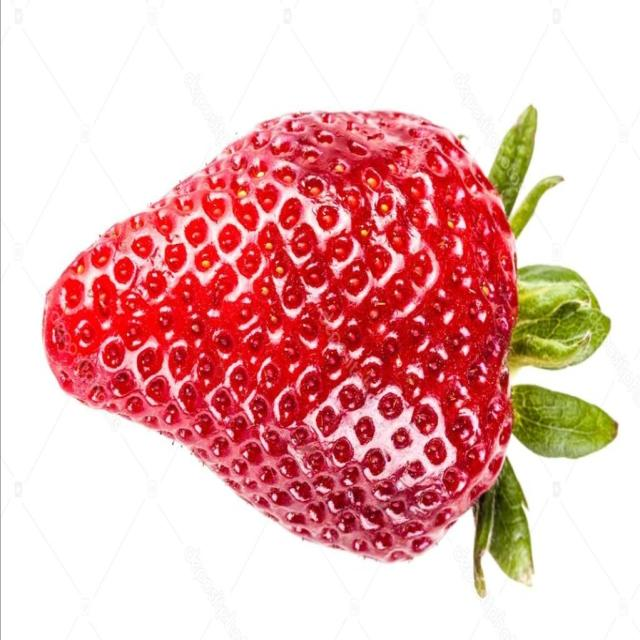strawberry: (24, 89, 608, 602)
